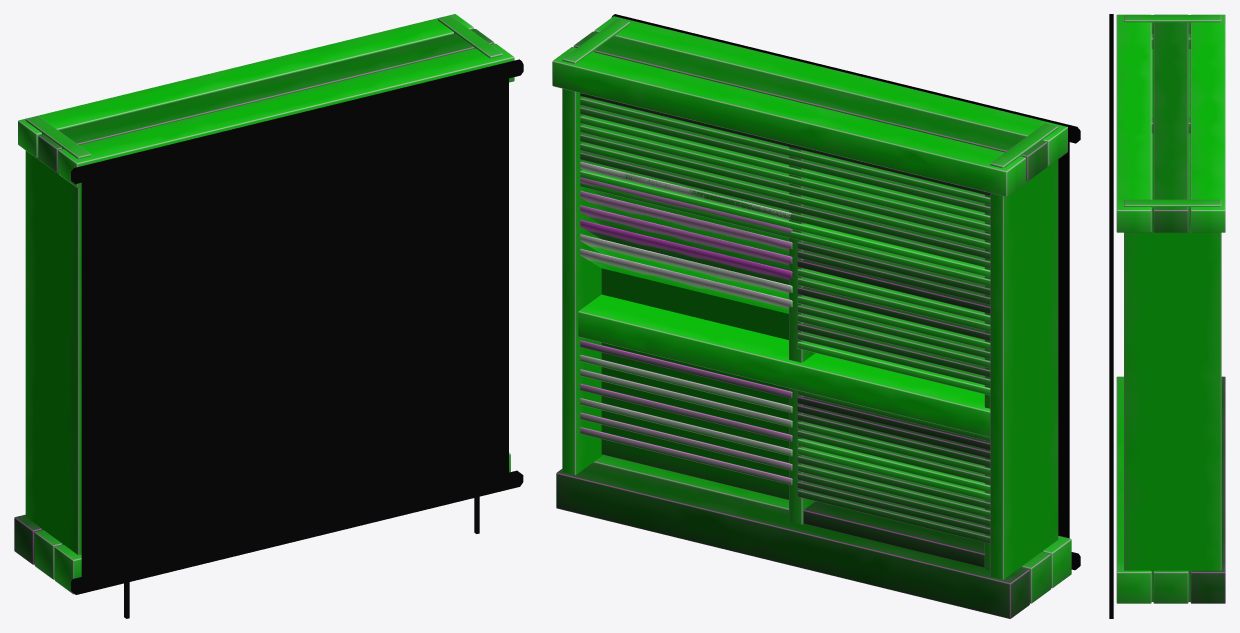
Rendered from window_400x350_03.fbx.
3 renders of one model, left to right at view 1: azimuth 30°, elevation 25°; view 2: azimuth 150°, elevation 25°; view 3: azimuth 270°, elevation 25°, orthographic. The views are drawn at different scales.
Parts seen in each view (by area): view 1: window_400x350_03; view 2: window_400x350_03; view 3: window_400x350_03.
Boxes of the visible parts, box(x1,y1,x2,y2) form: window_400x350_03: box(14, 14, 523, 618); window_400x350_03: box(552, 14, 1080, 618); window_400x350_03: box(1109, 14, 1225, 618).
Size of the model in its own units: 2.18 by 2.16 by 0.5318.
